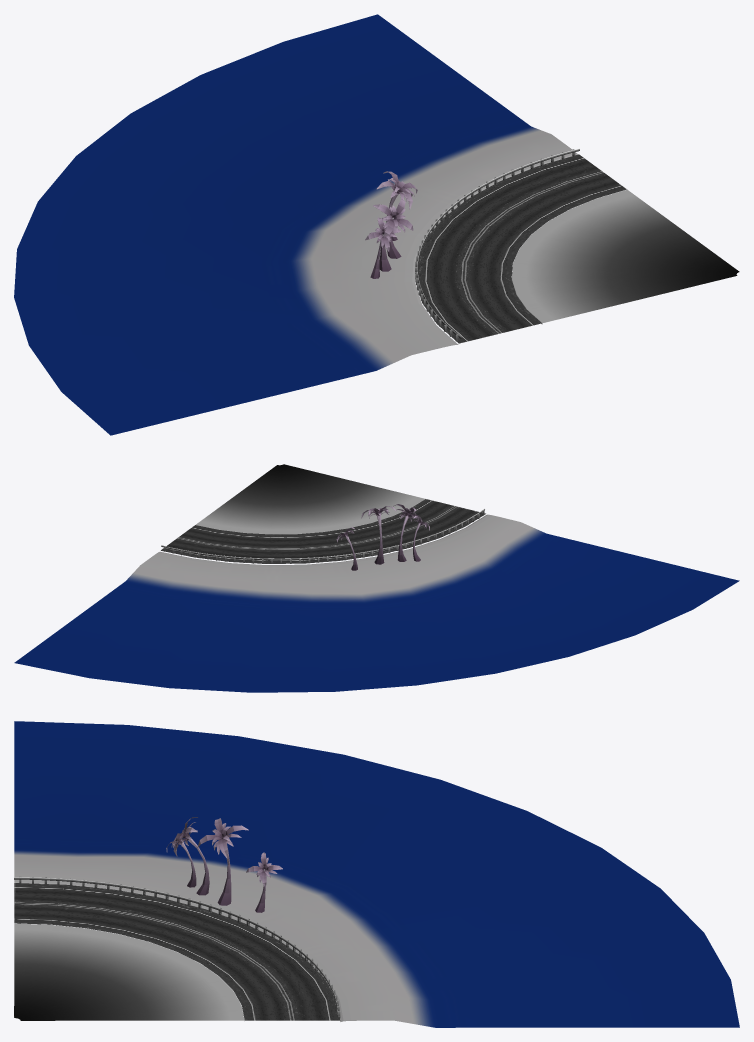
File: miami_road_003.FBX
3 renders of one model, top to bottom at view 1: azimuth 30°, elevation 25°; view 2: azimuth 150°, elevation 25°; view 3: azimuth 270°, elevation 25°, orthographic. The views are drawn at different scales.
Parts seen in each view (by area): view 1: Plane046, palm 052, palm 050; view 2: Plane046, palm 050, palm 052; view 3: Plane046, palm 050, palm 052, palm 051.
Part boxes in pixels (x1,y1,x2,y2): Plane046: (14,14,739,435); palm 052: (373,198,413,271); palm 050: (376,171,417,258); Plane046: (14,464,739,692); palm 050: (361,506,396,564); palm 052: (393,504,421,561); Plane046: (14,721,739,1027); palm 050: (197,818,248,905); palm 052: (173,817,209,895); palm 051: (246,852,282,912).
Bounding box in the file's own units: 2657 × 344 × 2658.
